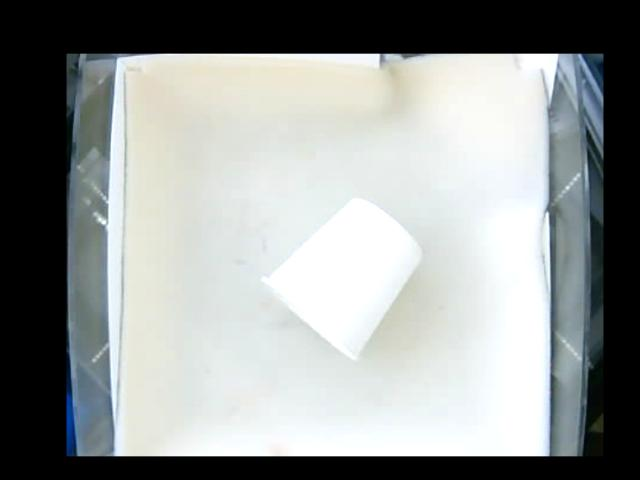Cup: (261, 197, 420, 361)
